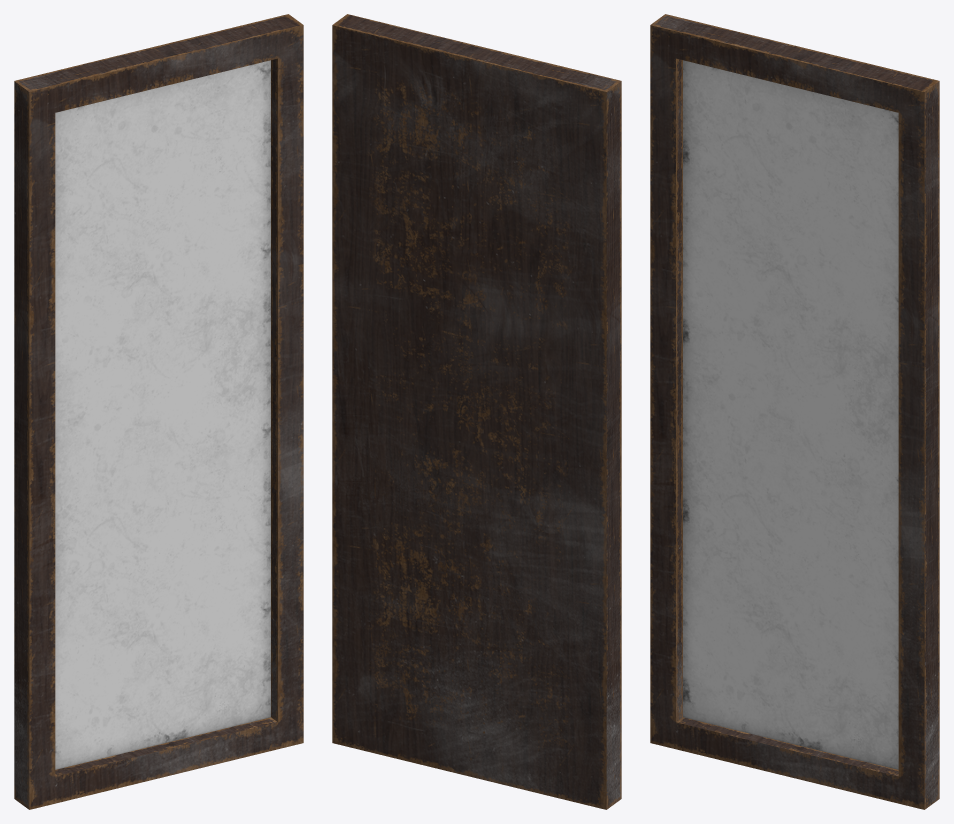
File: dirty_old_mirror.glb
3 renders of one model, left to right at view 1: azimuth 30°, elevation 25°; view 2: azimuth 150°, elevation 25°; view 3: azimuth 330°, elevation 25°, orthographic.
Parts seen in each view (by area): view 1: Object_2; view 2: Object_2; view 3: Object_2.
Boxes of the visible parts, x1,y1,x2,y2 form: Object_2: (14, 14, 303, 809); Object_2: (332, 14, 621, 809); Object_2: (650, 14, 939, 809).
Size of the model in its own units: 2 by 5 by 0.1923.
Materials: 1 (1 with a texture image).
